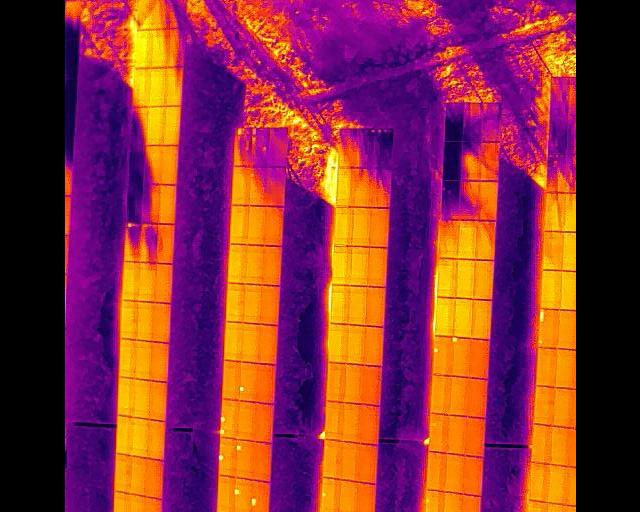Cell: (429, 414, 447, 454), (238, 362, 256, 402), (433, 336, 451, 375), (451, 336, 468, 376), (250, 167, 267, 207), (320, 478, 338, 512), (236, 440, 251, 480), (233, 477, 250, 512), (250, 480, 268, 512)
Cell-Multi: (538, 309, 558, 347), (219, 437, 236, 477), (220, 399, 237, 439), (233, 129, 250, 167), (251, 129, 266, 167), (424, 489, 443, 512)
No-Anomaly: (530, 425, 552, 465), (547, 466, 570, 504), (539, 270, 561, 309), (532, 387, 553, 427), (552, 388, 574, 426), (431, 375, 452, 414), (551, 426, 571, 466), (369, 207, 389, 247), (469, 339, 489, 379), (472, 260, 492, 300), (555, 349, 576, 387), (251, 441, 270, 483), (367, 247, 387, 286), (363, 326, 383, 365), (528, 464, 548, 503), (535, 348, 555, 387), (471, 300, 491, 339), (465, 417, 484, 457), (366, 287, 385, 327), (462, 456, 481, 495), (446, 416, 465, 455), (437, 260, 456, 299), (362, 365, 381, 404), (357, 444, 376, 483), (330, 285, 349, 324), (228, 206, 247, 245), (237, 400, 255, 441), (325, 363, 344, 401), (541, 232, 560, 270), (455, 259, 473, 299), (351, 207, 369, 247), (346, 325, 364, 365), (333, 207, 351, 247), (224, 322, 242, 362), (241, 284, 259, 324), (149, 29, 167, 69), (439, 221, 457, 260), (344, 365, 362, 404), (342, 403, 360, 442), (322, 440, 340, 479), (333, 247, 351, 286), (244, 246, 262, 285), (152, 303, 170, 342), (130, 68, 148, 107), (148, 381, 166, 420), (145, 458, 163, 497), (119, 301, 137, 340), (445, 454, 462, 495), (258, 324, 275, 365), (254, 402, 271, 443), (558, 311, 576, 349), (468, 379, 486, 417), (451, 376, 468, 416), (341, 442, 358, 482), (221, 361, 238, 401), (262, 246, 279, 286), (329, 324, 346, 364), (264, 206, 281, 246), (255, 363, 272, 403), (151, 341, 168, 381), (458, 221, 475, 260), (436, 297, 453, 336), (428, 452, 445, 491), (360, 404, 377, 443), (335, 168, 352, 207), (324, 401, 341, 440), (247, 206, 264, 245), (225, 283, 242, 322), (231, 167, 248, 206), (130, 418, 147, 457), (163, 107, 180, 146), (157, 224, 174, 263), (155, 264, 172, 303), (146, 106, 163, 145), (137, 263, 154, 302), (117, 378, 134, 417), (242, 323, 258, 364), (454, 299, 471, 337), (228, 245, 245, 283), (148, 69, 165, 107), (147, 421, 164, 459), (351, 247, 367, 287), (161, 146, 177, 186), (134, 340, 150, 380), (560, 232, 576, 272), (349, 286, 365, 325), (260, 285, 276, 324), (159, 185, 175, 224), (133, 29, 149, 68), (118, 339, 134, 378), (115, 417, 131, 455), (115, 454, 130, 494), (560, 273, 576, 310), (137, 302, 152, 341), (122, 262, 137, 301), (217, 476, 233, 512), (130, 457, 145, 495), (339, 481, 357, 512), (134, 380, 148, 419), (563, 193, 576, 232), (357, 483, 374, 512), (443, 491, 460, 512), (461, 494, 479, 512), (112, 494, 128, 512), (143, 497, 161, 512), (128, 495, 143, 512), (526, 499, 545, 512), (545, 504, 566, 512)
Shadowing: (372, 129, 392, 168), (461, 102, 480, 142), (440, 181, 459, 221), (370, 169, 390, 207), (478, 142, 497, 182), (459, 182, 478, 221), (548, 77, 567, 116), (544, 193, 563, 232), (545, 155, 564, 193), (266, 129, 285, 167), (460, 142, 478, 182), (548, 115, 566, 155), (266, 167, 284, 207), (475, 221, 493, 261), (442, 142, 460, 181), (352, 168, 370, 207), (477, 182, 495, 221), (444, 102, 461, 142), (355, 129, 372, 169), (480, 103, 497, 143), (123, 224, 140, 262), (140, 224, 156, 264), (130, 145, 146, 185), (338, 129, 354, 168), (128, 185, 144, 224), (165, 68, 181, 106), (168, 29, 184, 67), (146, 146, 161, 185), (144, 185, 159, 224), (130, 106, 145, 145), (149, 0, 167, 30), (135, 0, 149, 31)
